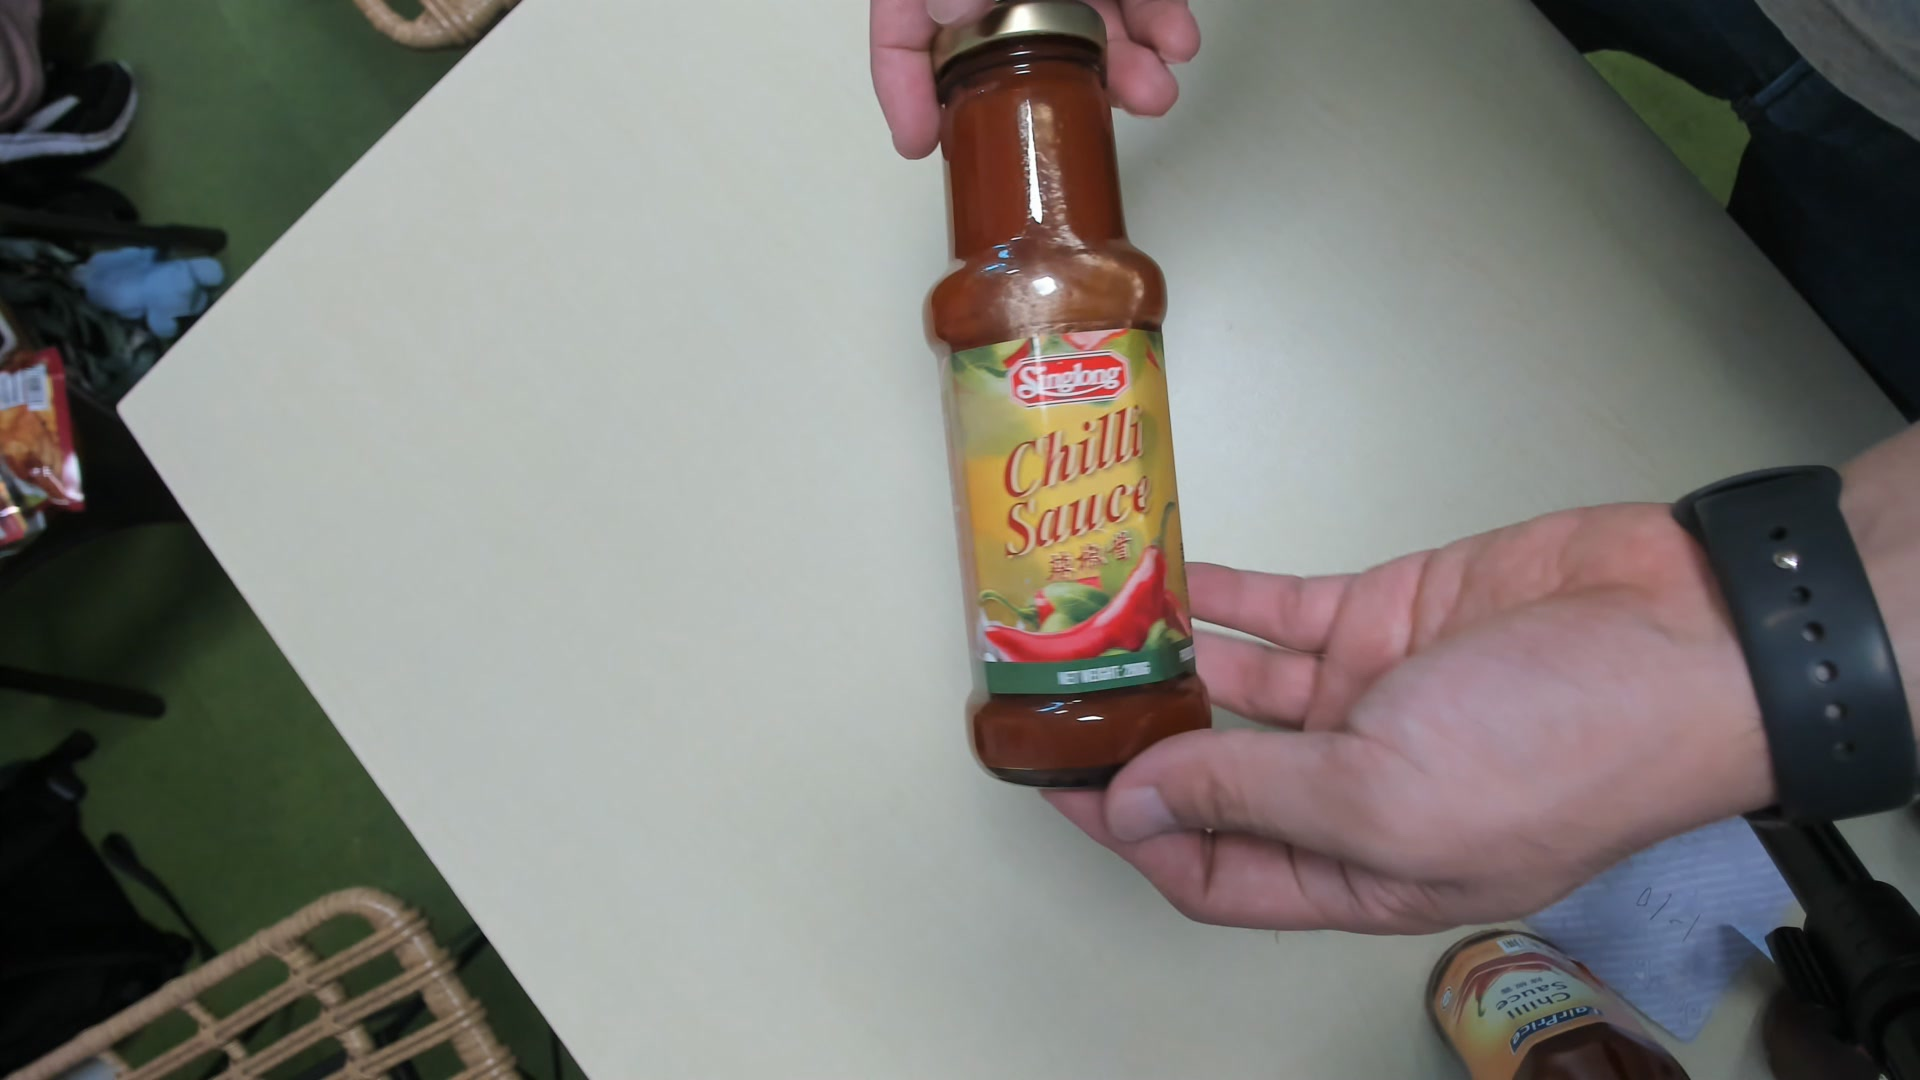KetchupChillSauce_200-299g_Halal_NonHealthy: (922, 8, 1225, 796)
